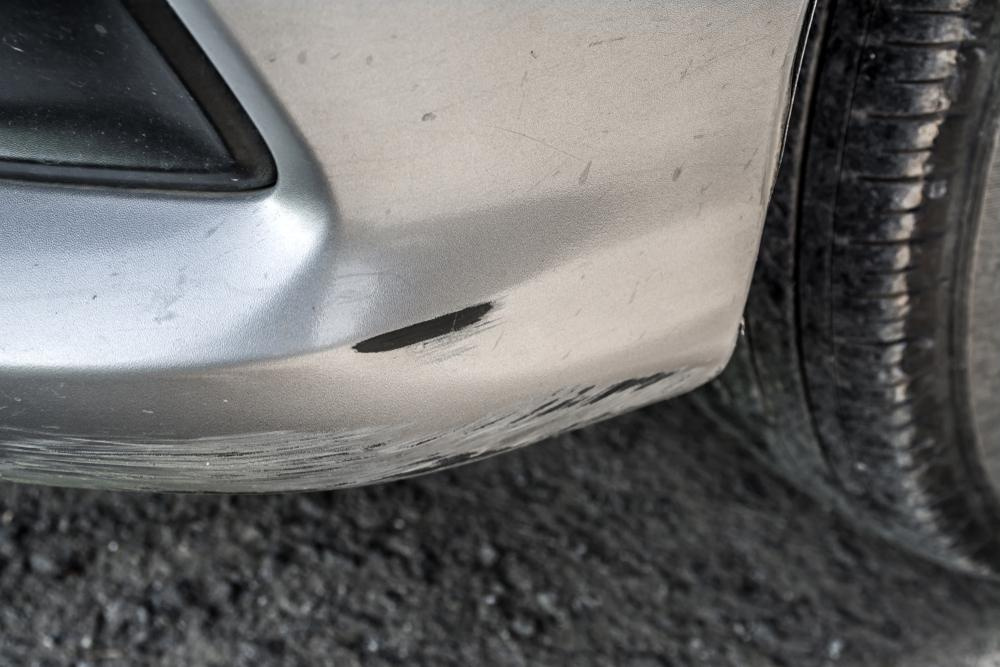scratch: (0, 364, 721, 497), (349, 293, 511, 358)
